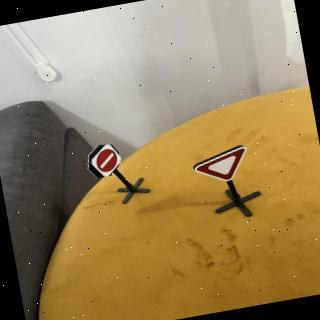sign_noentry: (89, 142, 127, 182)
sign_yield: (192, 146, 254, 189)
